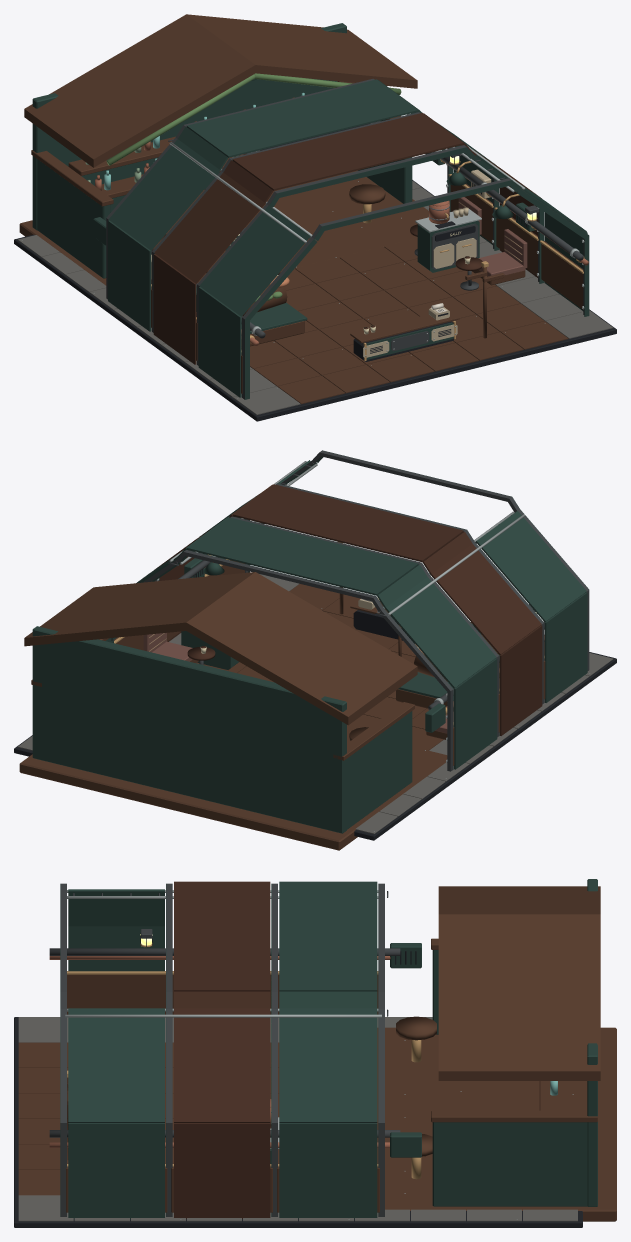
File: toxibloom-bar.glb
The picture shows the model from 3 angles, top to bottom: view 1: azimuth 30°, elevation 25°; view 2: azimuth 150°, elevation 25°; view 3: azimuth 270°, elevation 25°; orthographic projection. The views are drawn at different scales.
Parts seen in each view (by area): view 1: toxibloom-bar; view 2: toxibloom-bar; view 3: toxibloom-bar.
Part boxes in pixels (x1,y1,x2,y2): toxibloom-bar: (14, 14, 616, 421); toxibloom-bar: (14, 450, 616, 850); toxibloom-bar: (14, 879, 616, 1227).
Bounding box in the file's own units: 17.08 × 8.36 × 21.15.
Materials: 24 (21 with a texture image).
